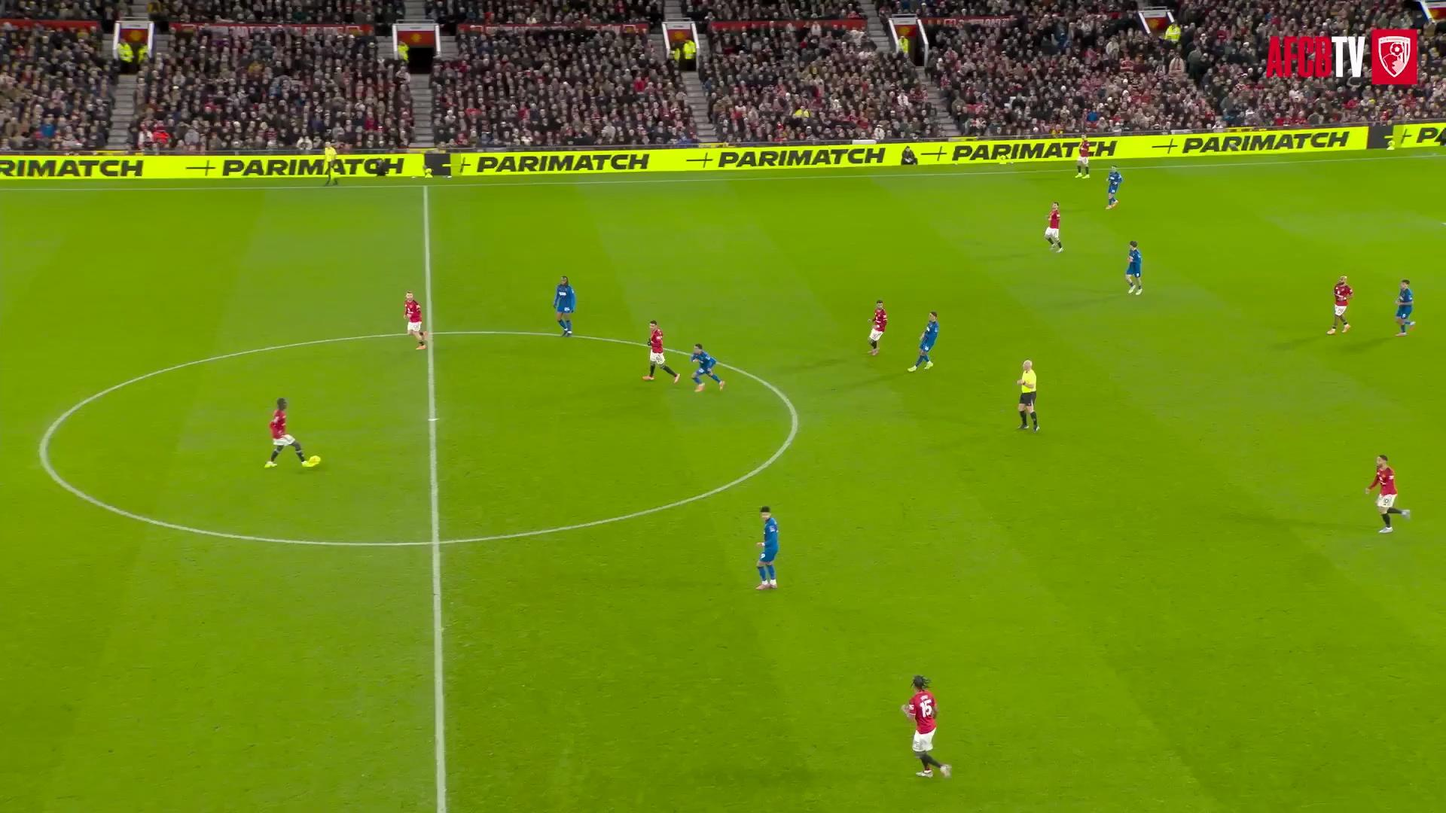football: (307, 452, 328, 474)
player: (902, 675, 950, 778), (264, 398, 319, 467), (1365, 455, 1410, 532), (643, 320, 680, 383), (755, 506, 778, 589), (907, 312, 938, 370), (690, 343, 725, 391), (1327, 276, 1353, 334), (404, 291, 426, 349), (554, 276, 575, 336), (1396, 280, 1415, 335), (869, 300, 887, 355), (1125, 240, 1142, 294), (1045, 202, 1063, 252), (1106, 166, 1123, 209), (1075, 138, 1093, 178), (323, 142, 338, 184)
referee: (1016, 361, 1039, 431), (323, 141, 338, 184)
